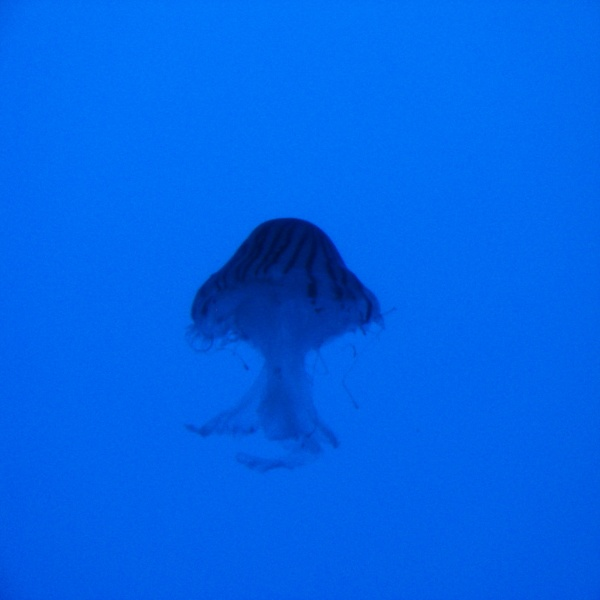Jellyfish: (182, 215, 396, 473)
